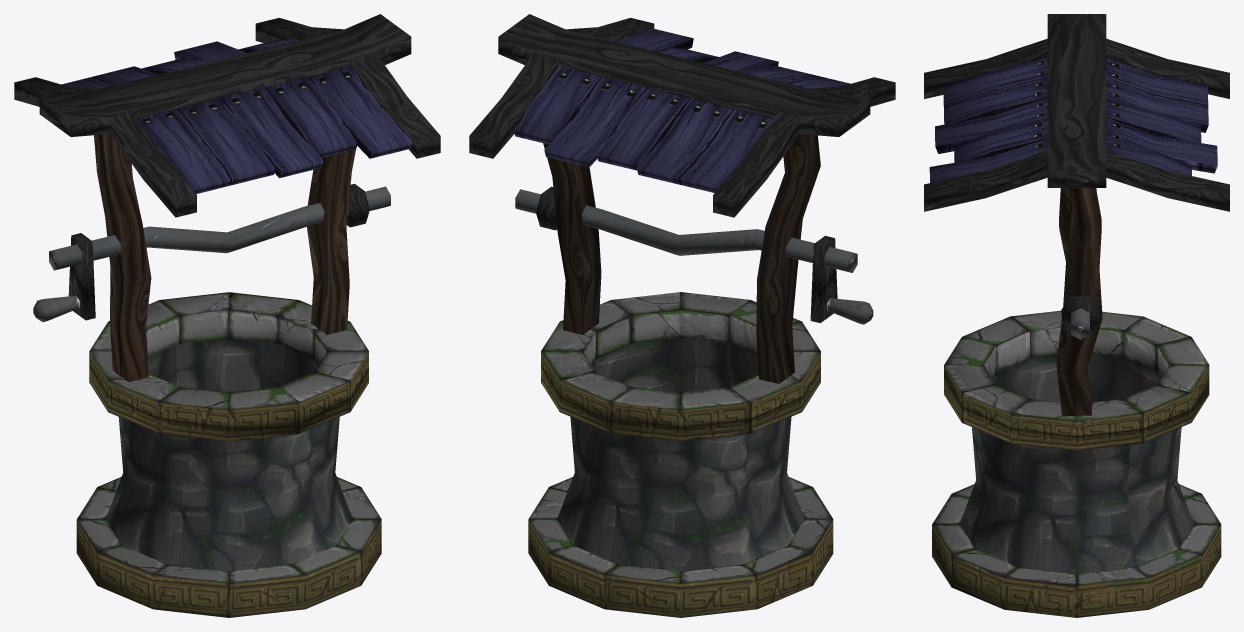
Rendered from Well.fbx.
3 views of the same model, side by side, from view 1: azimuth 30°, elevation 25°; view 2: azimuth 150°, elevation 25°; view 3: azimuth 270°, elevation 25° (orthographic). The views are drawn at different scales.
Visible parts, largest first — view 1: Well.001; view 2: Well.001; view 3: Well.001.
Boxes of the visible parts, x1=… form: Well.001: x1=14, y1=14, x2=440, y2=617; Well.001: x1=469, y1=14, x2=895, y2=617; Well.001: x1=924, y1=14, x2=1229, y2=617.
Bounding box in the file's own units: 5.21 × 6.77 × 4.06.
